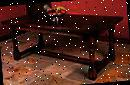Mesa: (1, 3, 130, 84)
